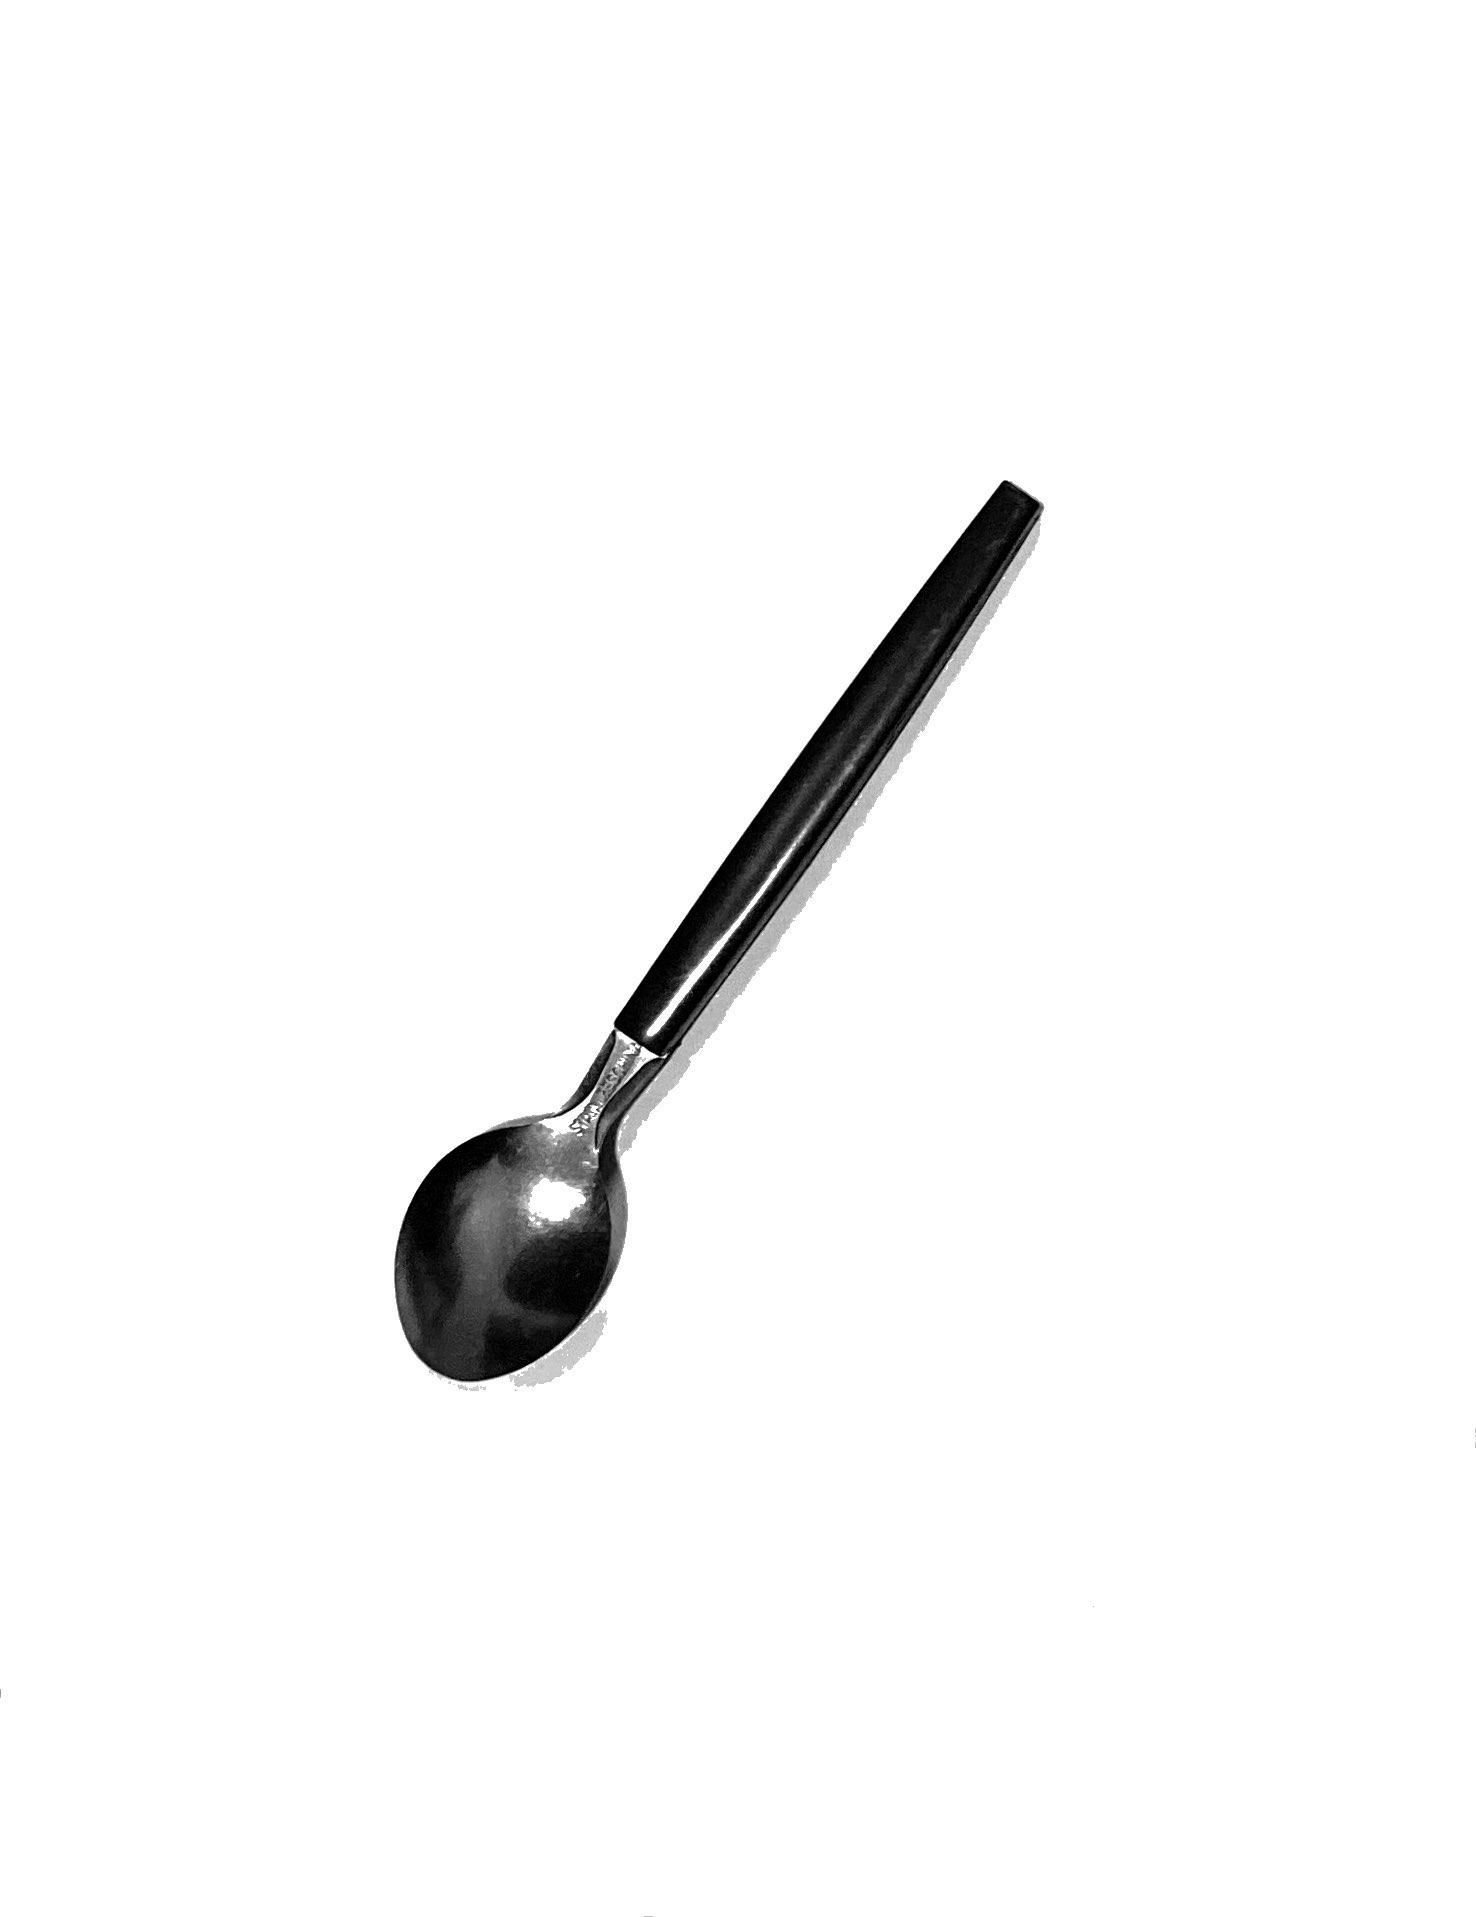Spoon: (302, 391, 1163, 1508)
